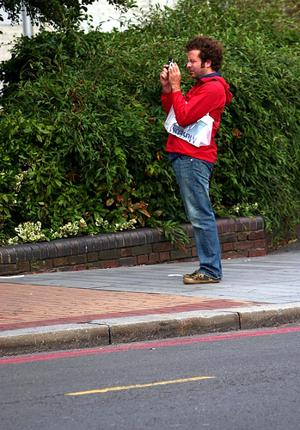person: (159, 38, 232, 283)
